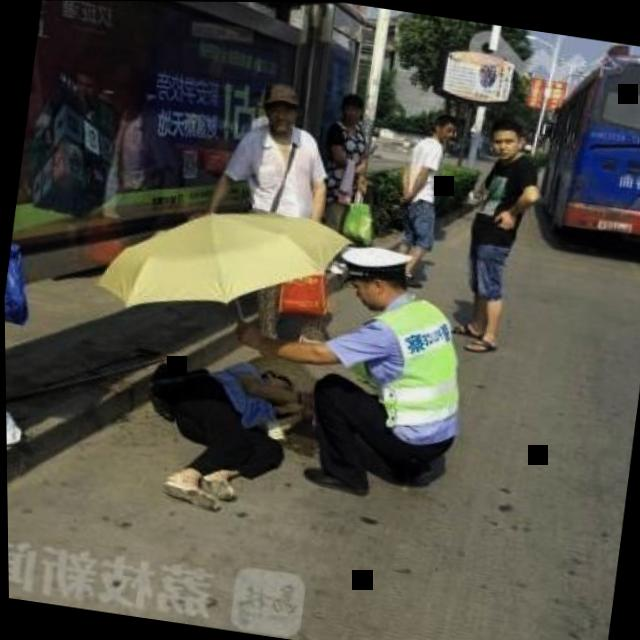Fall-Detected: (120, 316, 323, 527)
